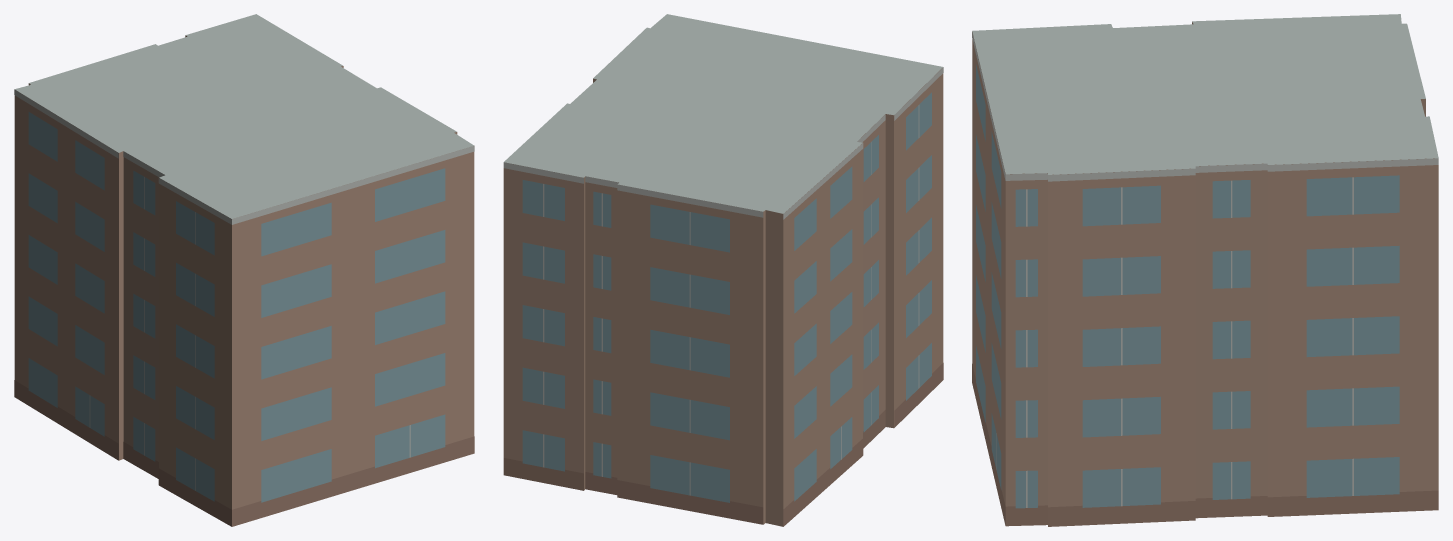
Rendered from survey-upis-32665349.glb.
3 views of the same model, side by side, from view 1: azimuth 30°, elevation 25°; view 2: azimuth 150°, elevation 25°; view 3: azimuth 270°, elevation 25° (orthographic). The views are drawn at different scales.
Parts seen in each view (by area): view 1: survey-upis-32665349.tmp; view 2: survey-upis-32665349.tmp; view 3: survey-upis-32665349.tmp.
Boxes of the visible parts, x1,y1,x2,y2 form: survey-upis-32665349.tmp: (14,14,474,526); survey-upis-32665349.tmp: (503,14,943,526); survey-upis-32665349.tmp: (972,14,1438,526).
Size of the model in its own units: 12.57 by 12.8 by 15.39.
